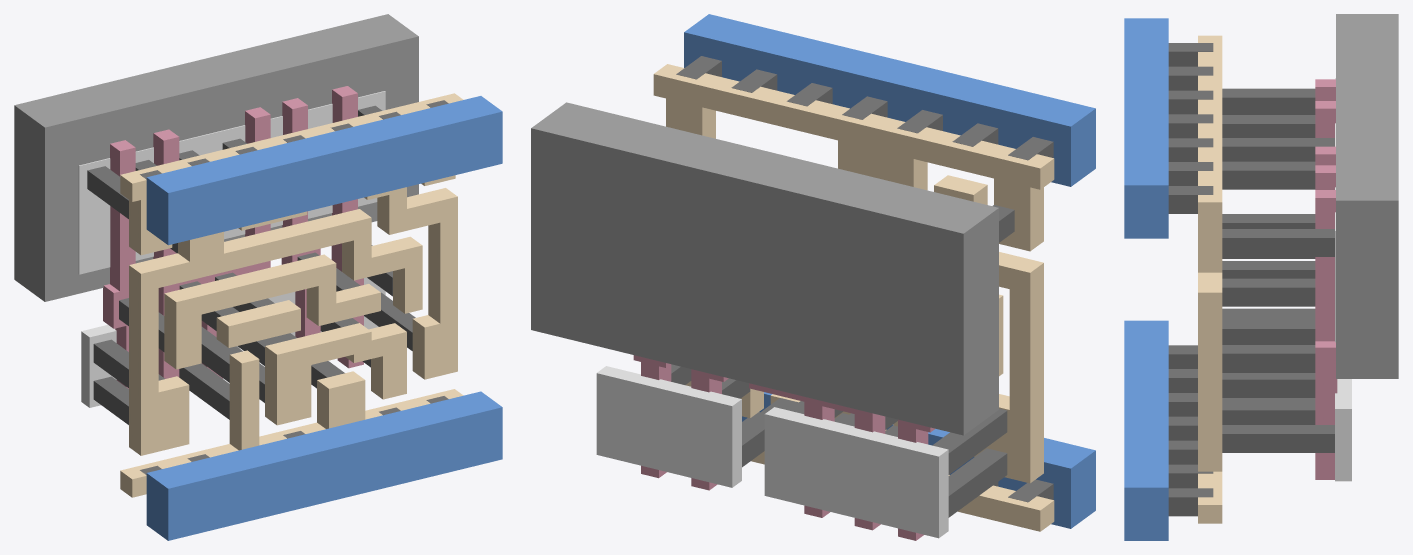
Rendered from sky130_fd_sc_hd__xnor2_1.gds.gltf.
3 renders of one model, left to right at view 1: azimuth 30°, elevation 25°; view 2: azimuth 150°, elevation 25°; view 3: azimuth 270°, elevation 25°, orthographic. The views are drawn at different scales.
Visible parts, largest first — view 1: sky130_fd_sc_hd__xnor2_1_li1, sky130_fd_sc_hd__xnor2_1_met1, sky130_fd_sc_hd__xnor2_1_nwell, sky130_fd_sc_hd__xnor2_1_licon, sky130_fd_sc_hd__xnor2_1_poly, sky130_fd_sc_hd__xnor2_1_diff, sky130_fd_sc_hd__xnor2_1_mcon; view 2: sky130_fd_sc_hd__xnor2_1_nwell, sky130_fd_sc_hd__xnor2_1_li1, sky130_fd_sc_hd__xnor2_1_diff, sky130_fd_sc_hd__xnor2_1_met1, sky130_fd_sc_hd__xnor2_1_licon, sky130_fd_sc_hd__xnor2_1_mcon, sky130_fd_sc_hd__xnor2_1_poly; view 3: sky130_fd_sc_hd__xnor2_1_licon, sky130_fd_sc_hd__xnor2_1_nwell, sky130_fd_sc_hd__xnor2_1_met1, sky130_fd_sc_hd__xnor2_1_mcon, sky130_fd_sc_hd__xnor2_1_li1, sky130_fd_sc_hd__xnor2_1_poly, sky130_fd_sc_hd__xnor2_1_diff.
Part boxes in pixels (left/top/right/bottom): sky130_fd_sc_hd__xnor2_1_li1: left=120, top=93, right=463, bottom=497; sky130_fd_sc_hd__xnor2_1_met1: left=146, top=96, right=502, bottom=540; sky130_fd_sc_hd__xnor2_1_nwell: left=14, top=14, right=418, bottom=301; sky130_fd_sc_hd__xnor2_1_licon: left=87, top=105, right=415, bottom=424; sky130_fd_sc_hd__xnor2_1_poly: left=103, top=86, right=363, bottom=388; sky130_fd_sc_hd__xnor2_1_diff: left=78, top=91, right=385, bottom=407; sky130_fd_sc_hd__xnor2_1_mcon: left=140, top=100, right=448, bottom=474; sky130_fd_sc_hd__xnor2_1_nwell: left=531, top=102, right=998, bottom=435; sky130_fd_sc_hd__xnor2_1_li1: left=653, top=64, right=1054, bottom=531; sky130_fd_sc_hd__xnor2_1_diff: left=596, top=366, right=948, bottom=538; sky130_fd_sc_hd__xnor2_1_met1: left=684, top=14, right=1095, bottom=528; sky130_fd_sc_hd__xnor2_1_licon: left=671, top=205, right=1014, bottom=517; sky130_fd_sc_hd__xnor2_1_mcon: left=676, top=56, right=1053, bottom=502; sky130_fd_sc_hd__xnor2_1_poly: left=633, top=355, right=935, bottom=540; sky130_fd_sc_hd__xnor2_1_licon: left=1222, top=88, right=1334, bottom=452; sky130_fd_sc_hd__xnor2_1_nwell: left=1336, top=14, right=1398, bottom=378; sky130_fd_sc_hd__xnor2_1_met1: left=1124, top=18, right=1168, bottom=540; sky130_fd_sc_hd__xnor2_1_mcon: left=1168, top=43, right=1213, bottom=516; sky130_fd_sc_hd__xnor2_1_li1: left=1198, top=35, right=1222, bottom=523; sky130_fd_sc_hd__xnor2_1_poly: left=1315, top=79, right=1337, bottom=479; sky130_fd_sc_hd__xnor2_1_diff: left=1335, top=78, right=1351, bottom=481.
Size of the model in its own units: 3.6 by 3.2 by 2.24.
